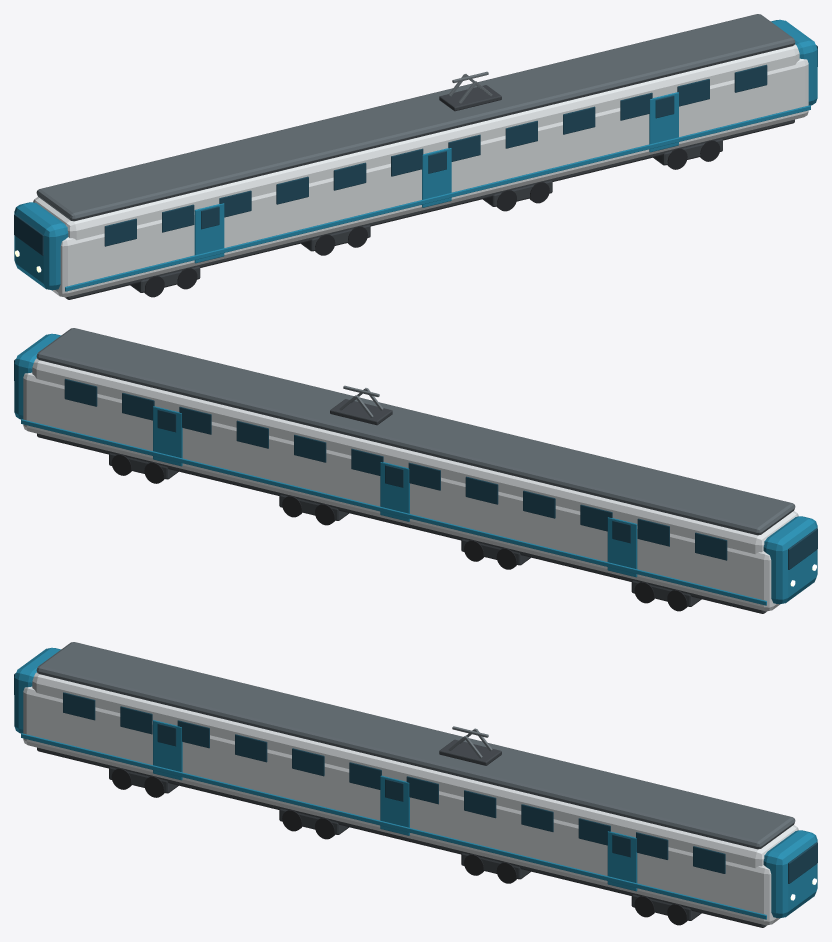
File: SM_SolCity_CommuterTrain_01.fbx
The picture shows the model from 3 angles, top to bottom: view 1: azimuth 30°, elevation 25°; view 2: azimuth 150°, elevation 25°; view 3: azimuth 330°, elevation 25°; orthographic projection.
Parts seen in each view (by area): view 1: SM_SolCity_CommuterTrain_01; view 2: SM_SolCity_CommuterTrain_01; view 3: SM_SolCity_CommuterTrain_01.
Boxes of the visible parts, box(x1,y1,x2,y2) form: SM_SolCity_CommuterTrain_01: box(14, 14, 817, 299); SM_SolCity_CommuterTrain_01: box(14, 328, 817, 613); SM_SolCity_CommuterTrain_01: box(14, 642, 817, 927).
Size of the model in its own units: 34.19 by 3.43 by 5.36.
